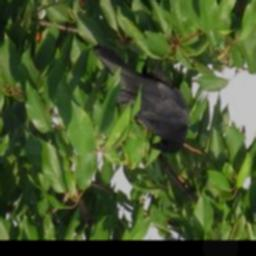Crow: (91, 45, 191, 155)
